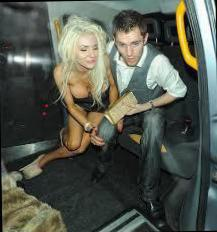Drunk: (113, 30, 145, 65), (74, 33, 100, 71)
